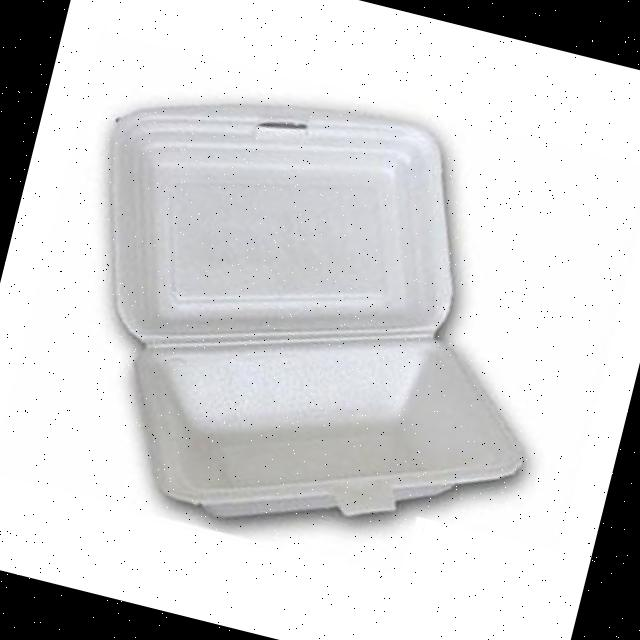styrofoam: (22, 45, 600, 588)
